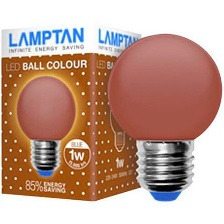book: (0, 19, 146, 207)
light_bulb: (102, 24, 224, 204)
